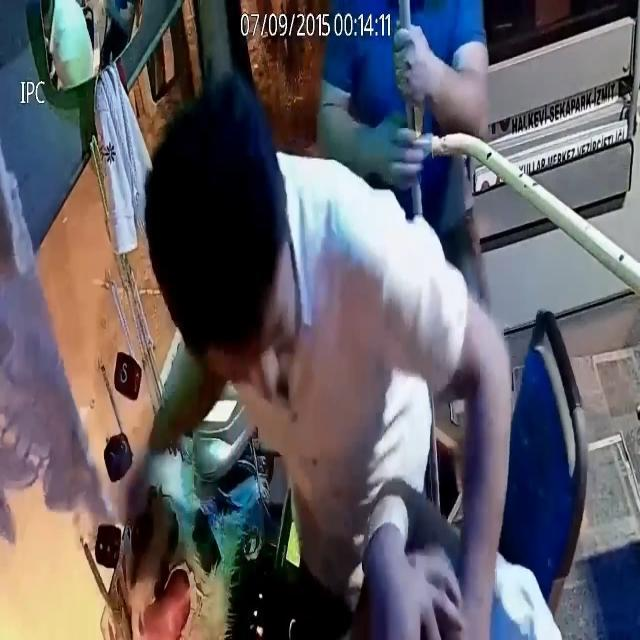fight: (107, 118, 568, 640)
